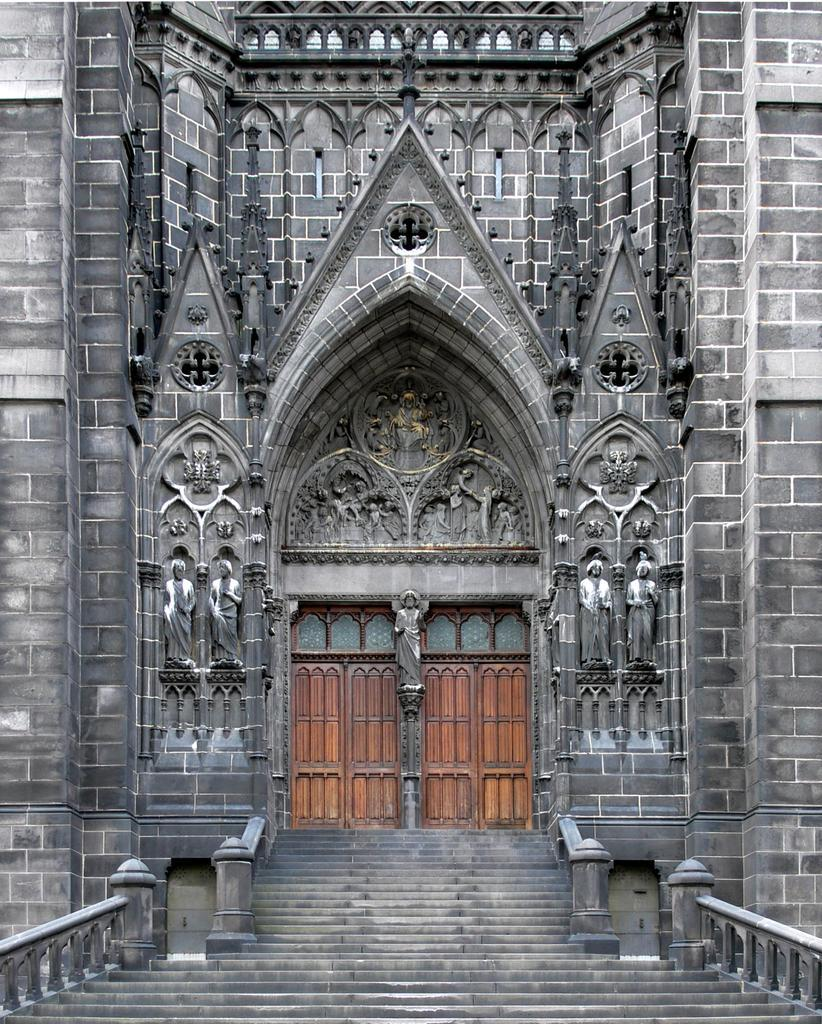door: (286, 670, 344, 818), (480, 670, 532, 820), (348, 670, 400, 818), (425, 670, 474, 816)
